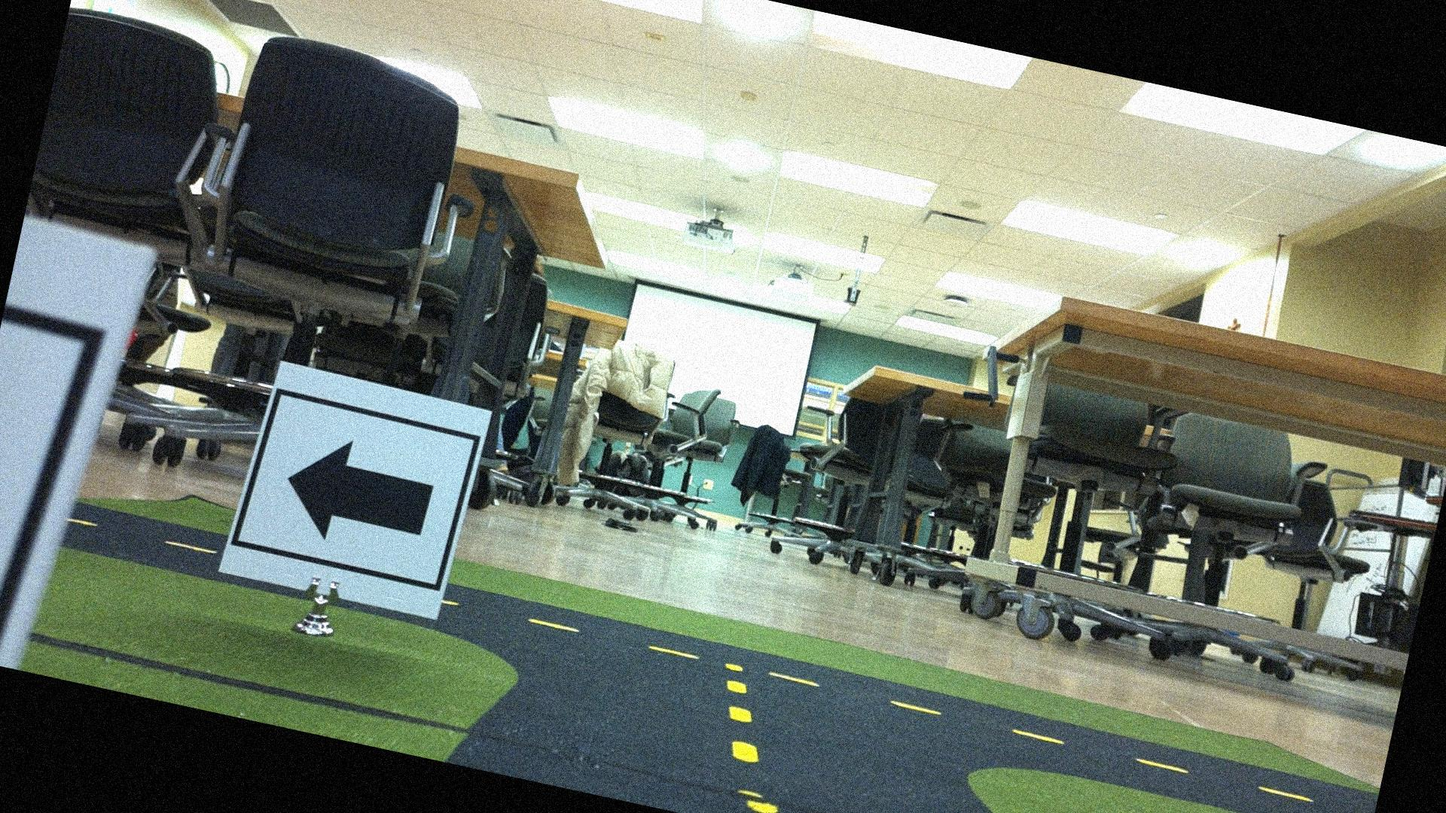turnleft: (227, 364, 483, 626)
yellowline: (708, 659, 779, 769)
